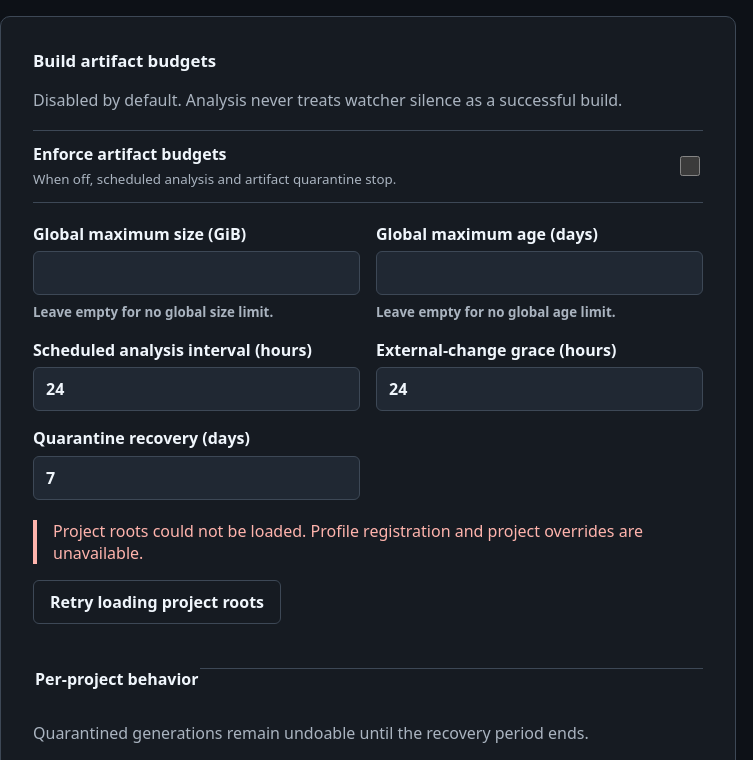
Test case: ArtifactBudgetSettings › shows root loading failures and retries project overrides
Check: the message shows "Project roots could not be loaded.", box [53,520,643,564]
Check: the element "Per-project behavior" is disabled, box [33,648,703,698]
Click the button "Retry loading project roots" at (157, 602), box [33,580,281,624]
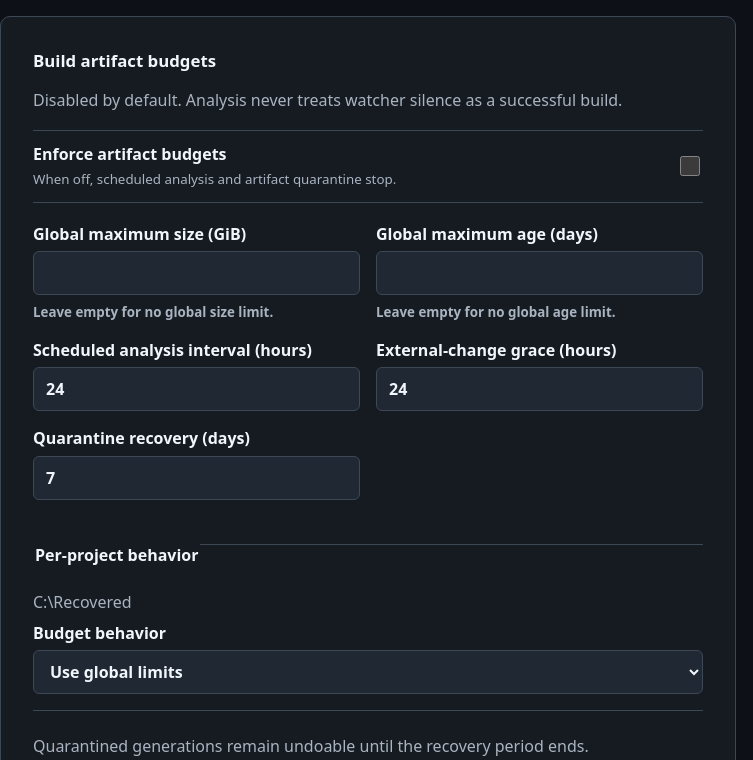
Check: the text "C:\\Recovered" is shown, box [33,591,132,613]
Check: the element "Per-project behavior" is enabled, box [33,524,703,711]
